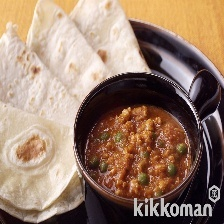sabzi: (83, 102, 196, 196)
